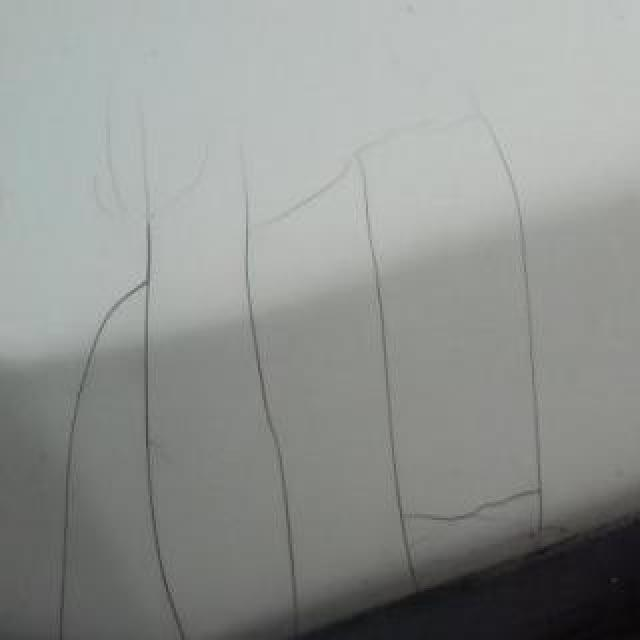crack: (254, 146, 422, 596), (403, 98, 545, 538), (56, 208, 194, 640), (236, 142, 302, 640)
